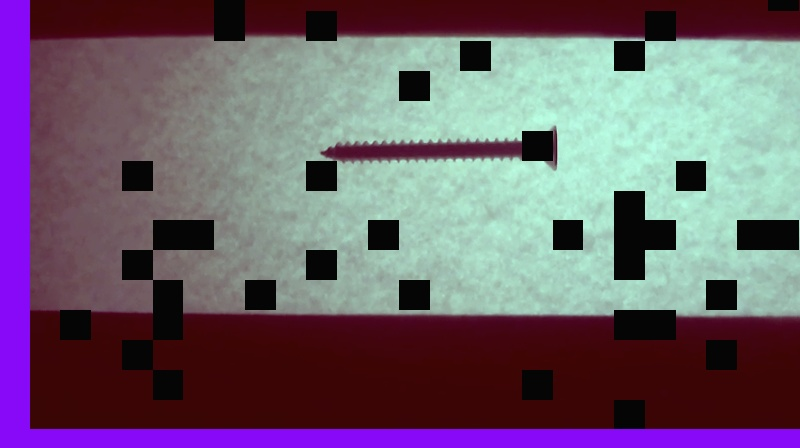S002: (316, 120, 559, 171)
